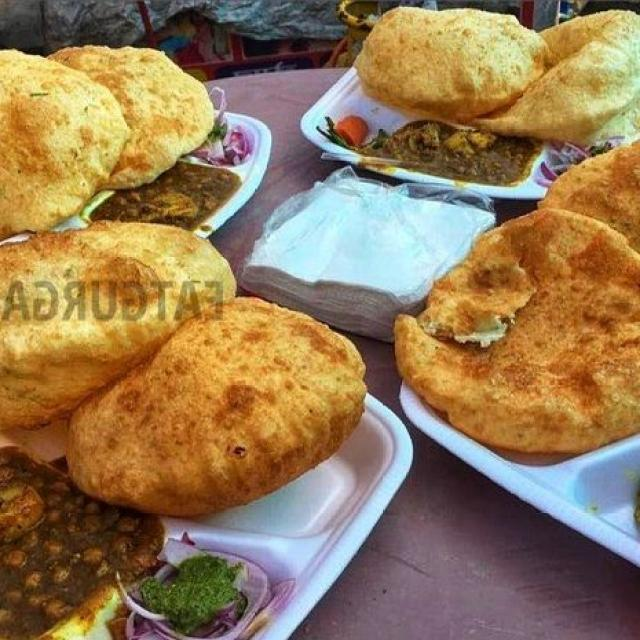Chole: (0, 499, 137, 623)
